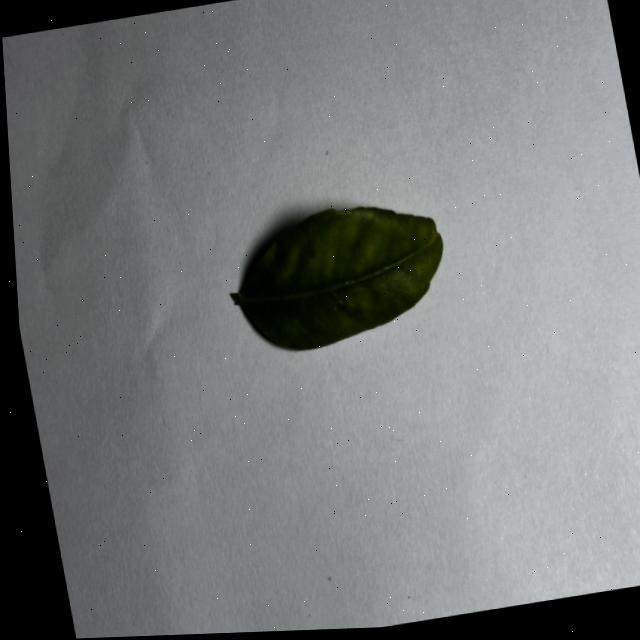greening: (230, 207, 441, 349)
